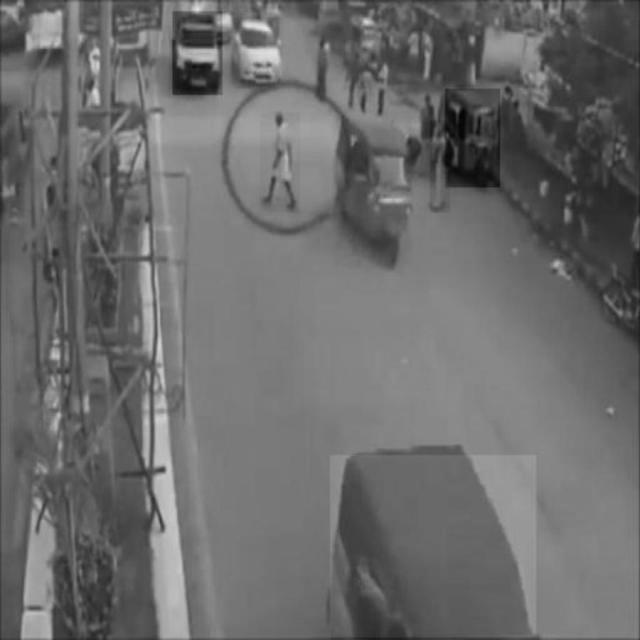person: (260, 113, 300, 213), (430, 120, 450, 212)
vehicle: (330, 455, 536, 637), (333, 112, 413, 266), (444, 89, 500, 187), (173, 12, 223, 95), (232, 18, 284, 85)
